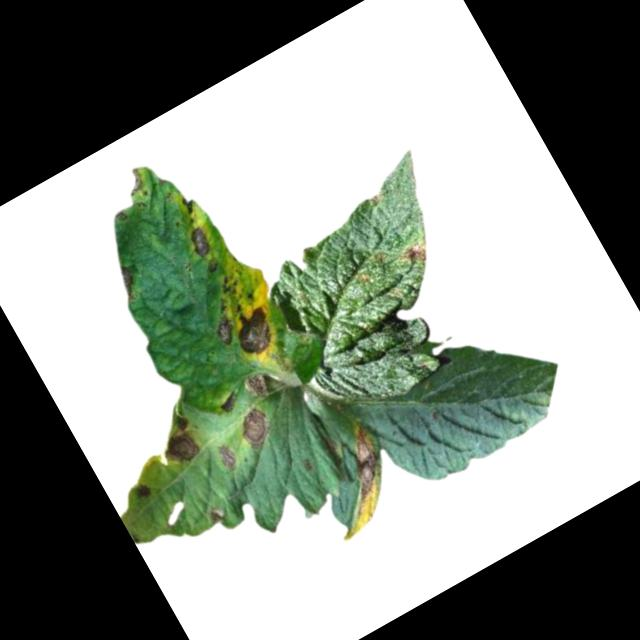Early_blight: (295, 421, 412, 545), (209, 297, 286, 372), (225, 401, 283, 459), (153, 422, 206, 476), (108, 260, 147, 307), (235, 367, 274, 407), (182, 221, 220, 262), (396, 237, 433, 274), (118, 166, 149, 200), (211, 438, 240, 471), (127, 478, 155, 507), (204, 504, 228, 528), (178, 194, 199, 219)
